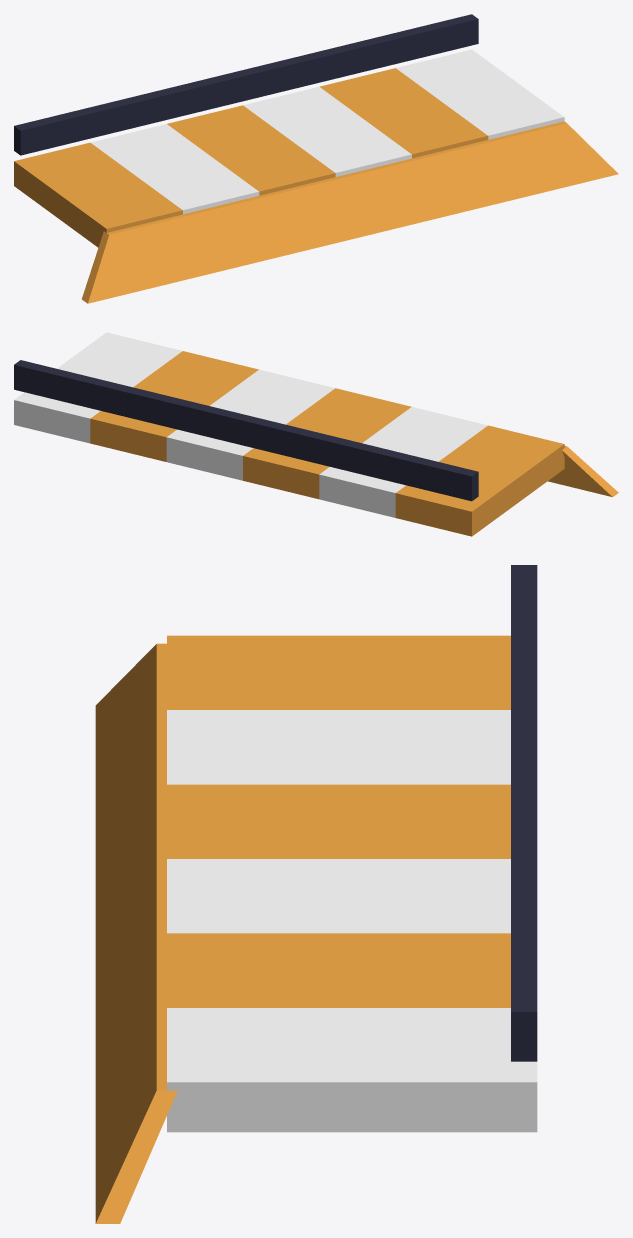
File: awning.glb
3 views of the same model, one above another, from view 1: azimuth 30°, elevation 25°; view 2: azimuth 150°, elevation 25°; view 3: azimuth 270°, elevation 25° (orthographic). The views are drawn at different scales.
Parts seen in each view (by area): view 1: awning_awning, awning_white, awning_black; view 2: awning_awning, awning_white, awning_black; view 3: awning_awning, awning_white, awning_black.
Part boxes in pixels (x1,y1,x2,y2): awning_awning: (14, 68, 618, 303); awning_white: (90, 49, 564, 214); awning_black: (14, 14, 478, 155); awning_awning: (90, 351, 618, 536); awning_white: (14, 332, 487, 517); awning_black: (14, 360, 478, 501); awning_awning: (95, 635, 510, 1223); awning_white: (167, 710, 537, 1132); awning_black: (511, 565, 537, 1061).
Bounding box in the file's own units: 4.83 × 0.765 × 1.74.
